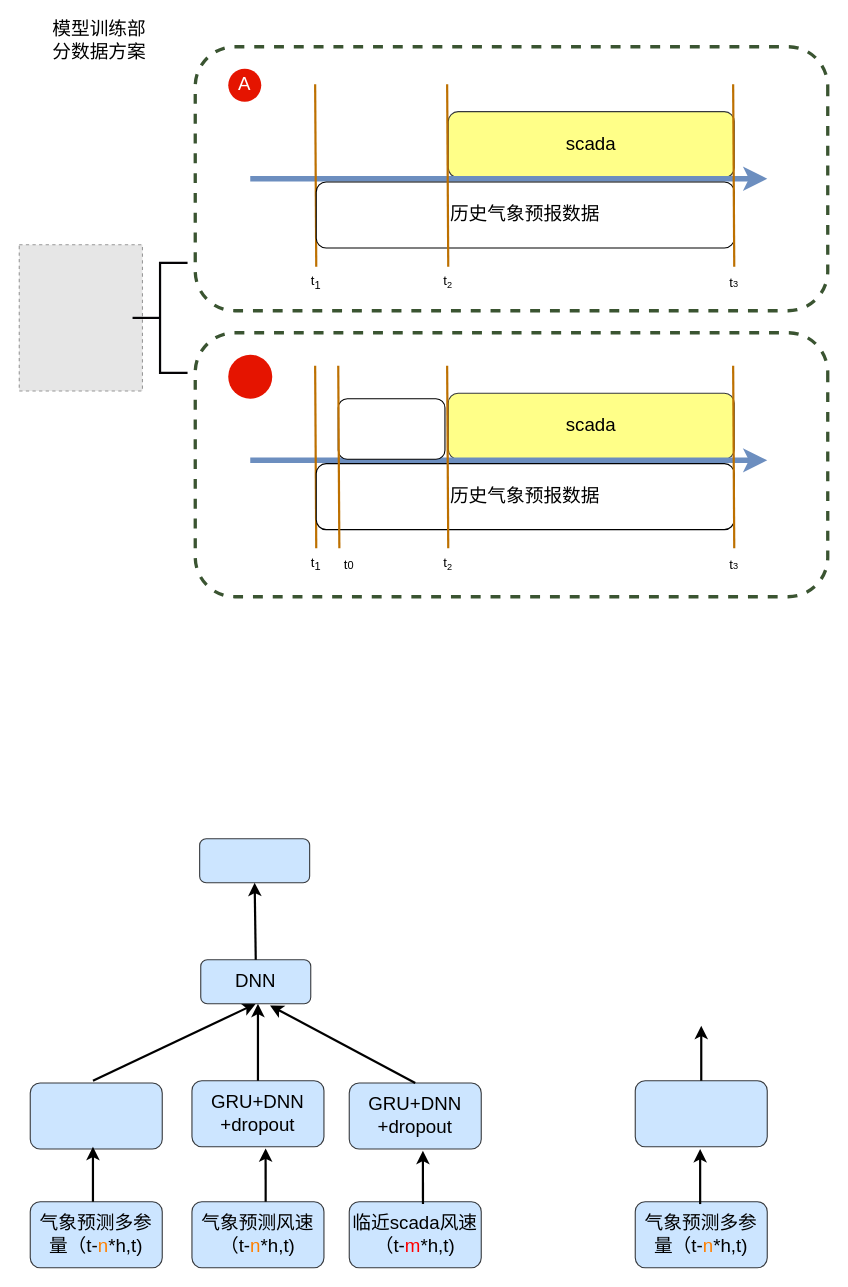
This 848x1287 diagram has some shape labels left out. Grey dashed boxes stand in for pictures. The shapes that lost their labels are listed below. From the top down, each one's box as (x1, y1, x2, y2) in pixels, then its label:
(228, 354, 272, 398): A+B
(337, 398, 445, 459): 临近scada
(199, 838, 310, 883): 风速预测值（t)
(29, 1082, 162, 1149): Flatten数据展平
(634, 1080, 767, 1147): 各小时多参量数据横向拼接
